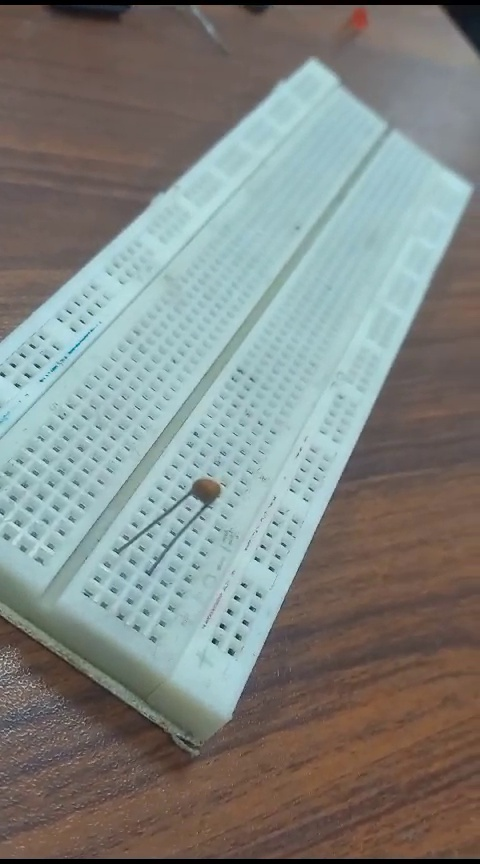ceramic capacitor: (115, 456, 230, 564)
